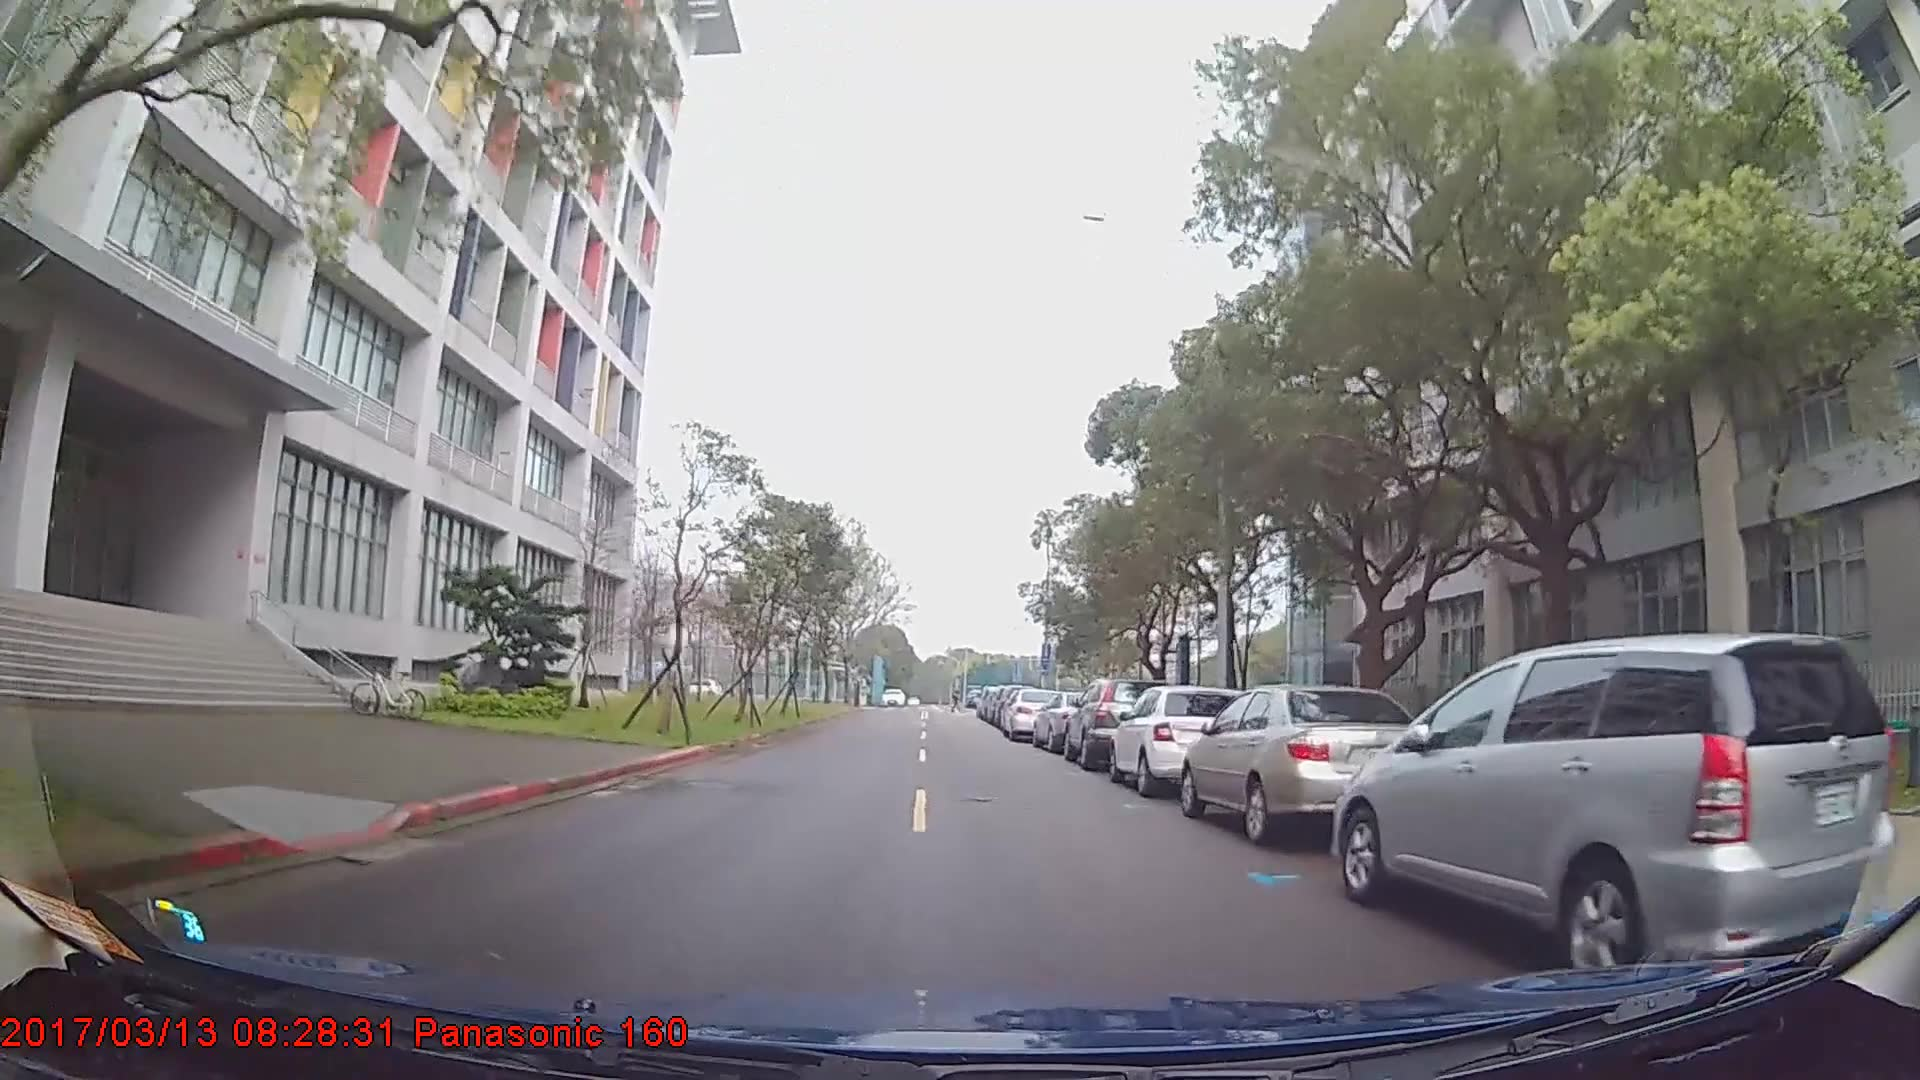vehicle: (1338, 632, 1892, 986), (1182, 680, 1437, 843), (1106, 684, 1244, 795), (1060, 676, 1167, 767), (1033, 687, 1117, 752), (1000, 684, 1062, 741)
